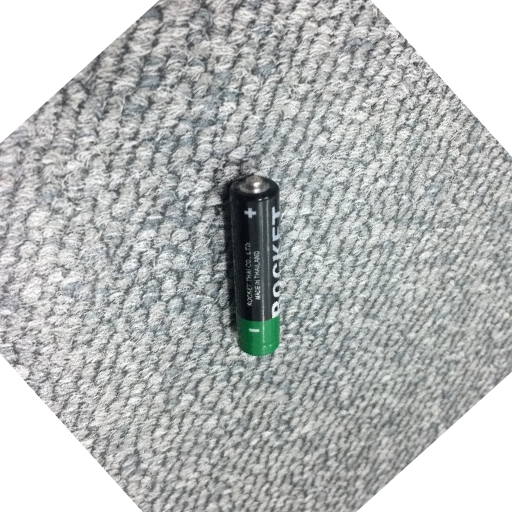Battery_0: (220, 163, 297, 368)
